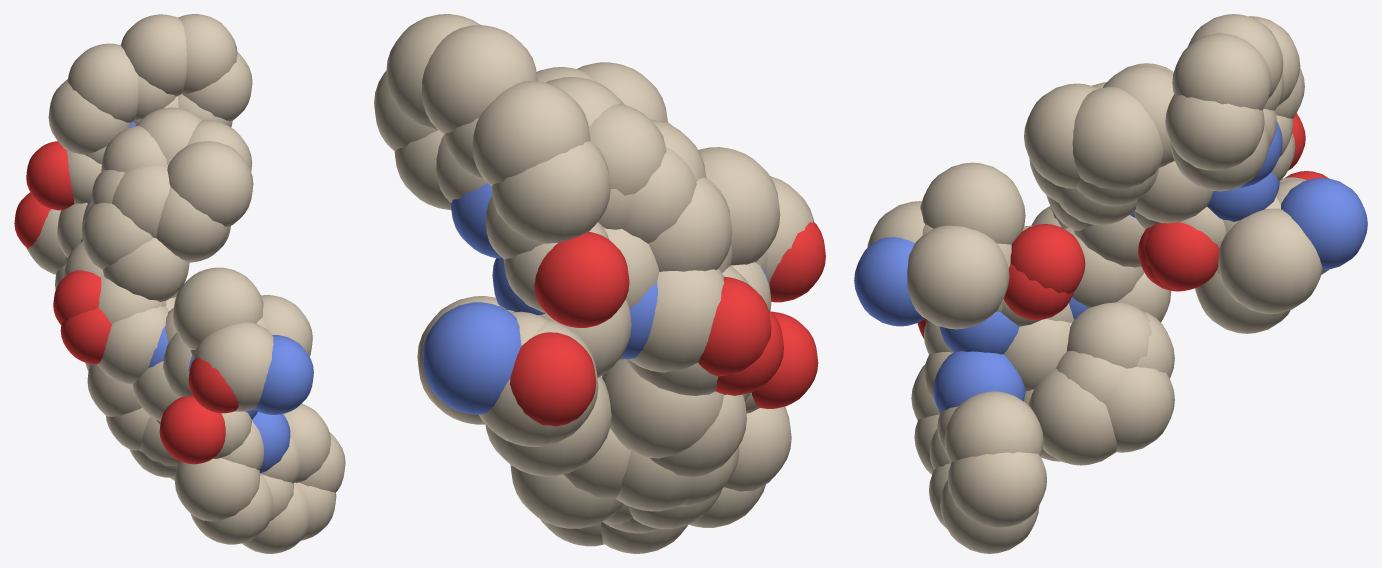
Rendered from AROCCentered.fbx.
The picture shows the model from 3 angles, left to right: view 1: azimuth 30°, elevation 25°; view 2: azimuth 150°, elevation 25°; view 3: azimuth 270°, elevation 25°; orthographic projection. The views are drawn at different scales.
Visible parts, largest first — view 1: ShapeSphere.003; view 2: ShapeSphere.003; view 3: ShapeSphere.003.
Boxes of the visible parts, x1,y1,x2,y2 form: ShapeSphere.003: (14,14,345,553); ShapeSphere.003: (374,14,825,553); ShapeSphere.003: (854,14,1367,553).
Size of the model in its own units: 1095 by 2026 by 1820.
